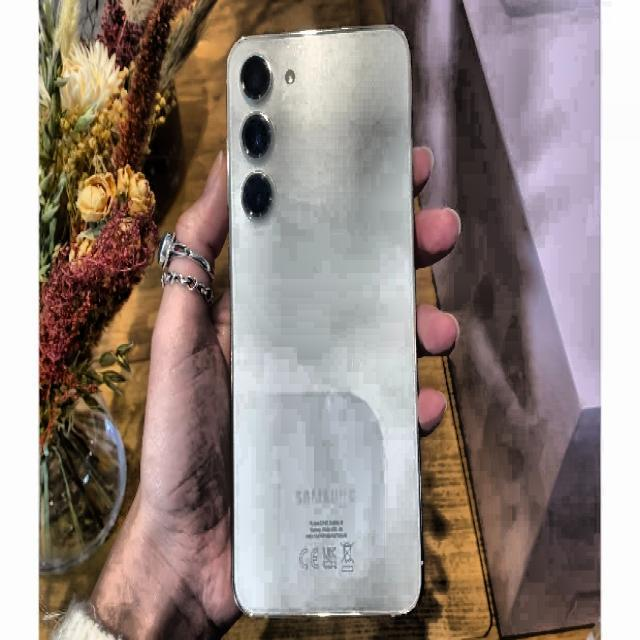Phone: (225, 22, 423, 623)
